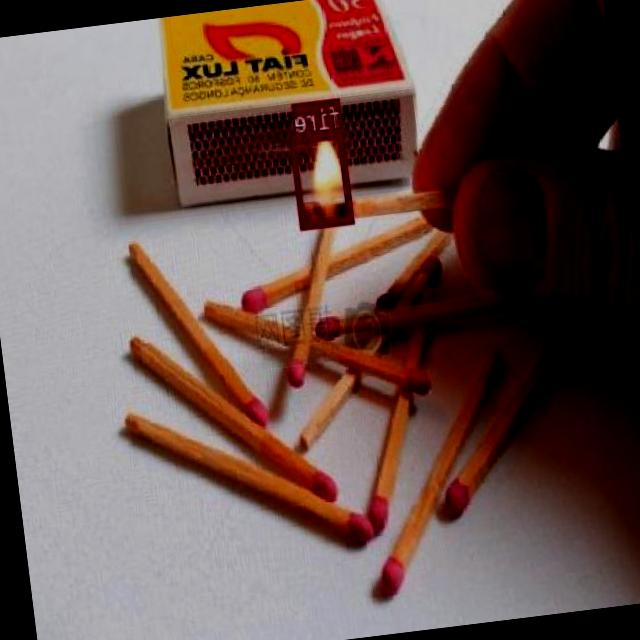fire: (290, 127, 355, 227)
